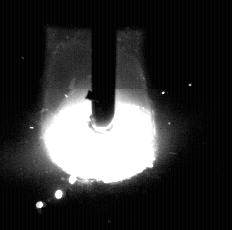arame: (93, 0, 116, 134)
poca: (41, 0, 158, 230)
